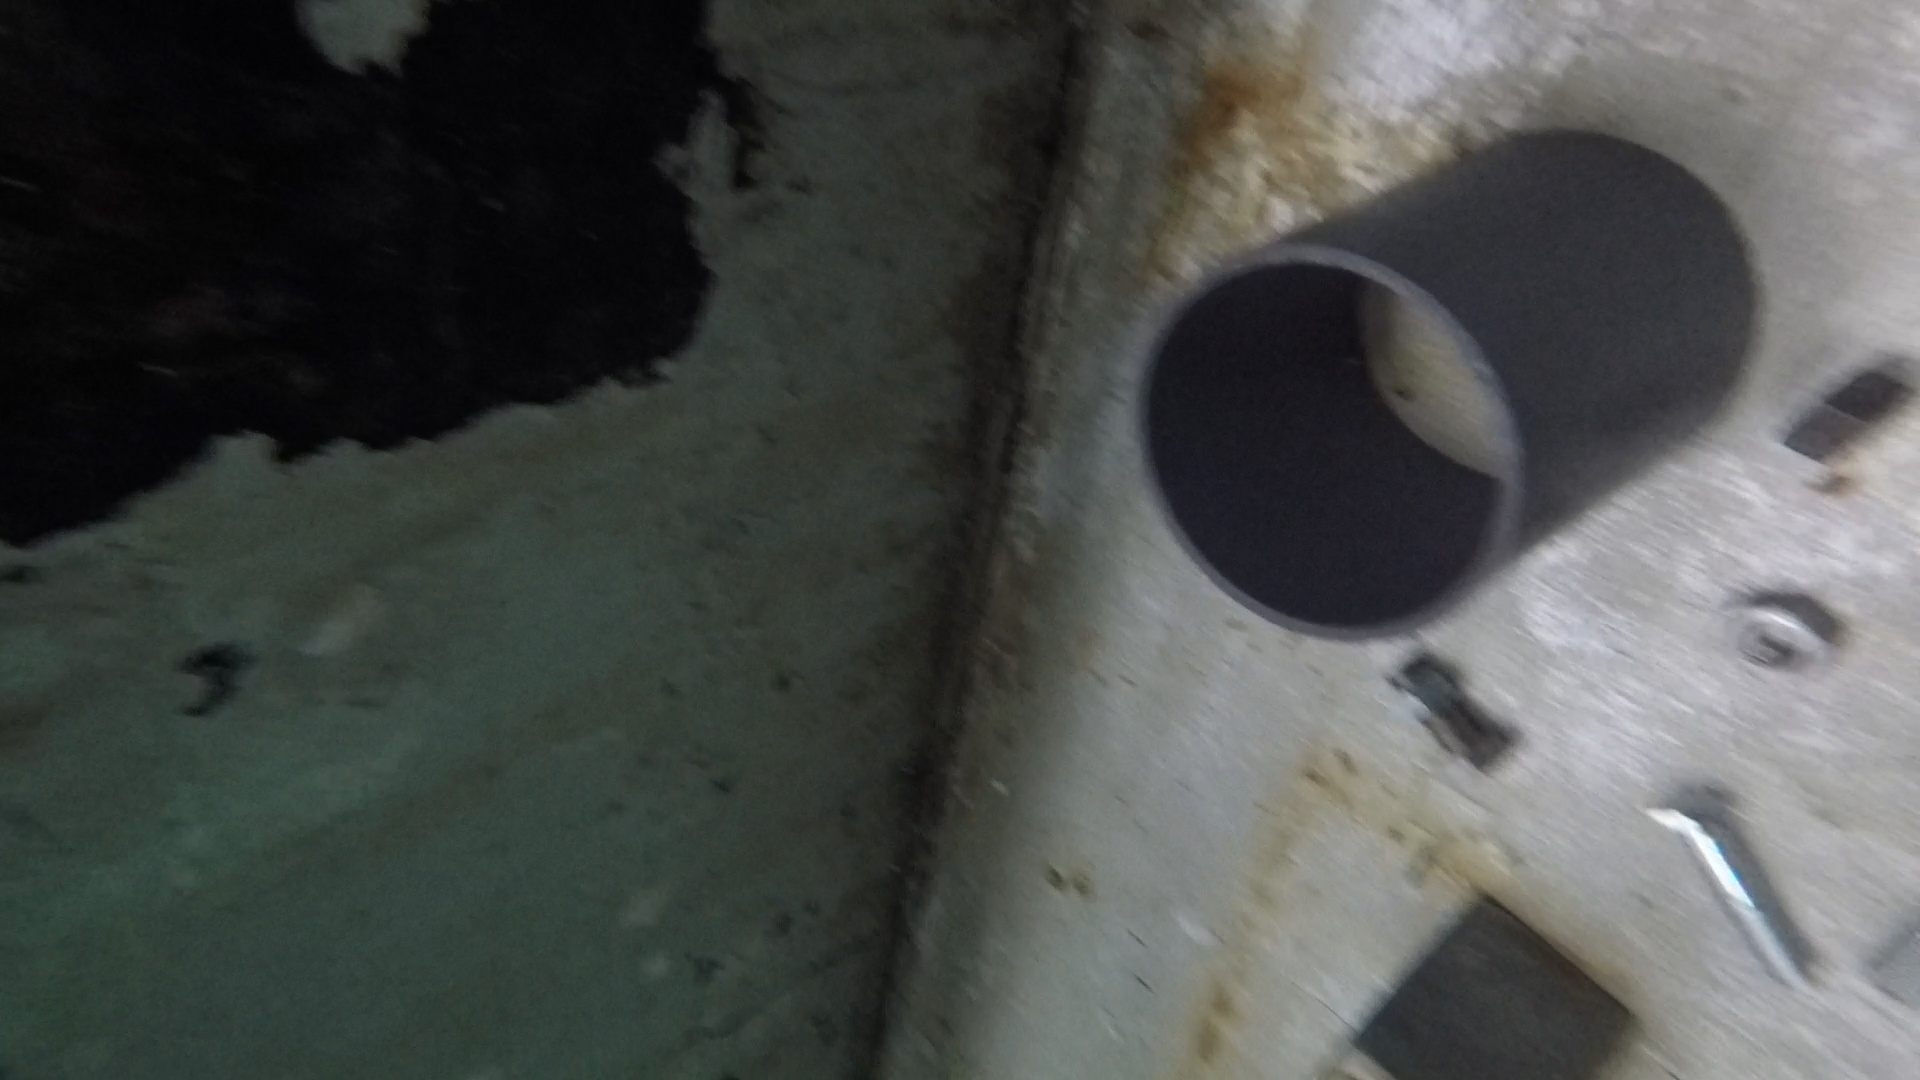bolt: (1646, 779, 1815, 993), (1391, 654, 1518, 775)
led_block: (1316, 895, 1636, 1080)
nut: (1779, 367, 1911, 495), (1717, 589, 1836, 680), (1390, 673, 1456, 727)
pipe: (1134, 127, 1756, 644)
